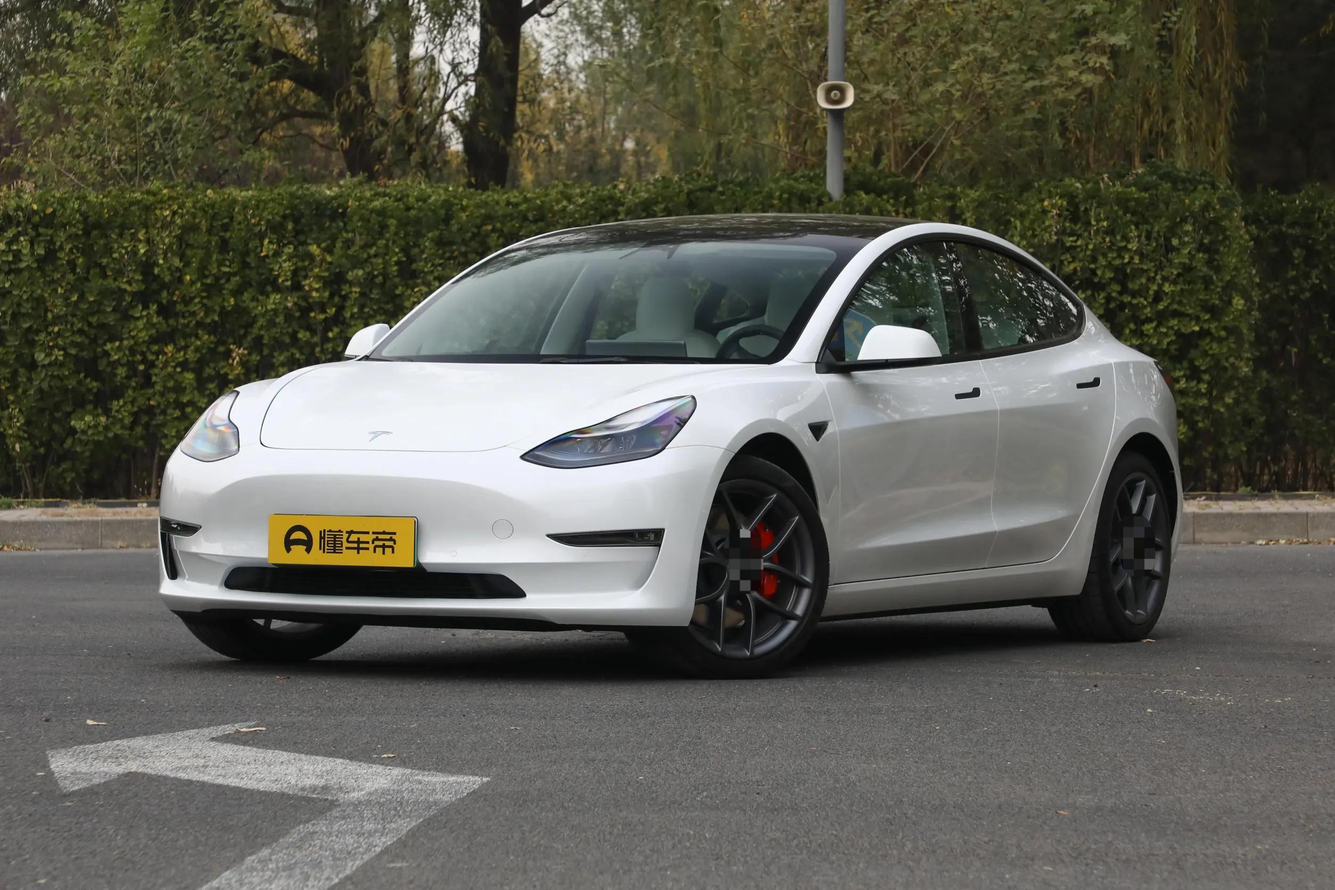Tesla: (366, 430, 393, 443)
